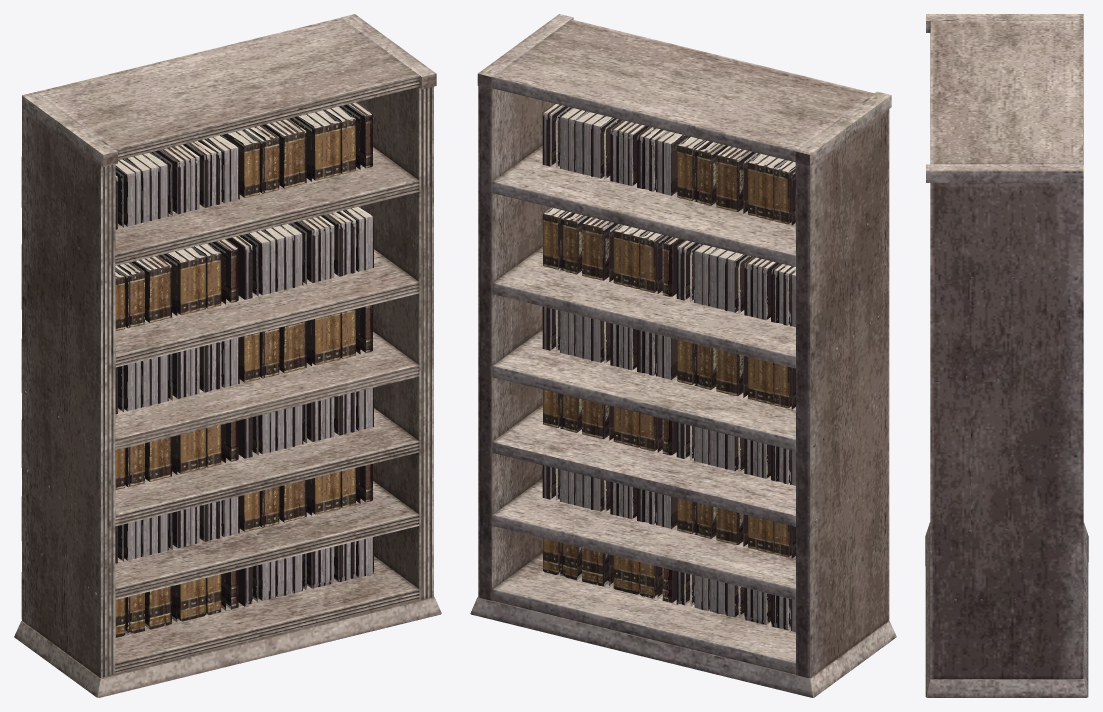
Rendered from bookshelf.glb.
The picture shows the model from 3 angles, left to right: view 1: azimuth 30°, elevation 25°; view 2: azimuth 150°, elevation 25°; view 3: azimuth 270°, elevation 25°; orthographic projection. The views are drawn at different scales.
Visible parts, largest first — view 1: wooden_bookshelf_worn, books5_1, books4_1, books5_0, books4_0, books3_1, books3_0, books2_1, books0_1, books1_1, books2_0, books0_0 (+1 smaller); view 2: wooden_bookshelf_worn, books5_1, books4_1, books5_0, books4_0, books3_1, books3_0, books2_1, books0_1, books1_1, books2_0, books1_0 (+1 smaller); view 3: wooden_bookshelf_worn.
Boxes of the visible parts, x1=… form: wooden_bookshelf_worn: x1=14, y1=14, x2=441, y2=697; books5_1: x1=222, y1=102, x2=372, y2=197; books4_1: x1=227, y1=206, x2=373, y2=299; books5_0: x1=115, y1=135, x2=239, y2=229; books4_0: x1=115, y1=239, x2=238, y2=330; books3_1: x1=239, y1=305, x2=372, y2=382; books3_0: x1=115, y1=337, x2=239, y2=414; books2_1: x1=238, y1=387, x2=373, y2=458; books0_1: x1=238, y1=537, x2=374, y2=606; books1_1: x1=239, y1=463, x2=372, y2=531; books2_0: x1=115, y1=420, x2=238, y2=489; books0_0: x1=115, y1=570, x2=238, y2=637; wooden_bookshelf_worn: x1=470, y1=14, x2=896, y2=697; books5_1: x1=542, y1=103, x2=689, y2=195; books4_1: x1=543, y1=207, x2=684, y2=296; books5_0: x1=677, y1=136, x2=795, y2=225; books4_0: x1=676, y1=240, x2=795, y2=327; books3_1: x1=542, y1=306, x2=677, y2=379; books3_0: x1=677, y1=339, x2=795, y2=409; books2_1: x1=543, y1=389, x2=676, y2=455; books0_1: x1=543, y1=538, x2=676, y2=602; books1_1: x1=542, y1=465, x2=677, y2=528; books2_0: x1=676, y1=422, x2=795, y2=485; books1_0: x1=677, y1=498, x2=795, y2=558; wooden_bookshelf_worn: x1=925, y1=14, x2=1088, y2=697.
Size of the model in its own units: 1.08 by 1.62 by 0.4582.
Materials: 13 (13 with a texture image).
